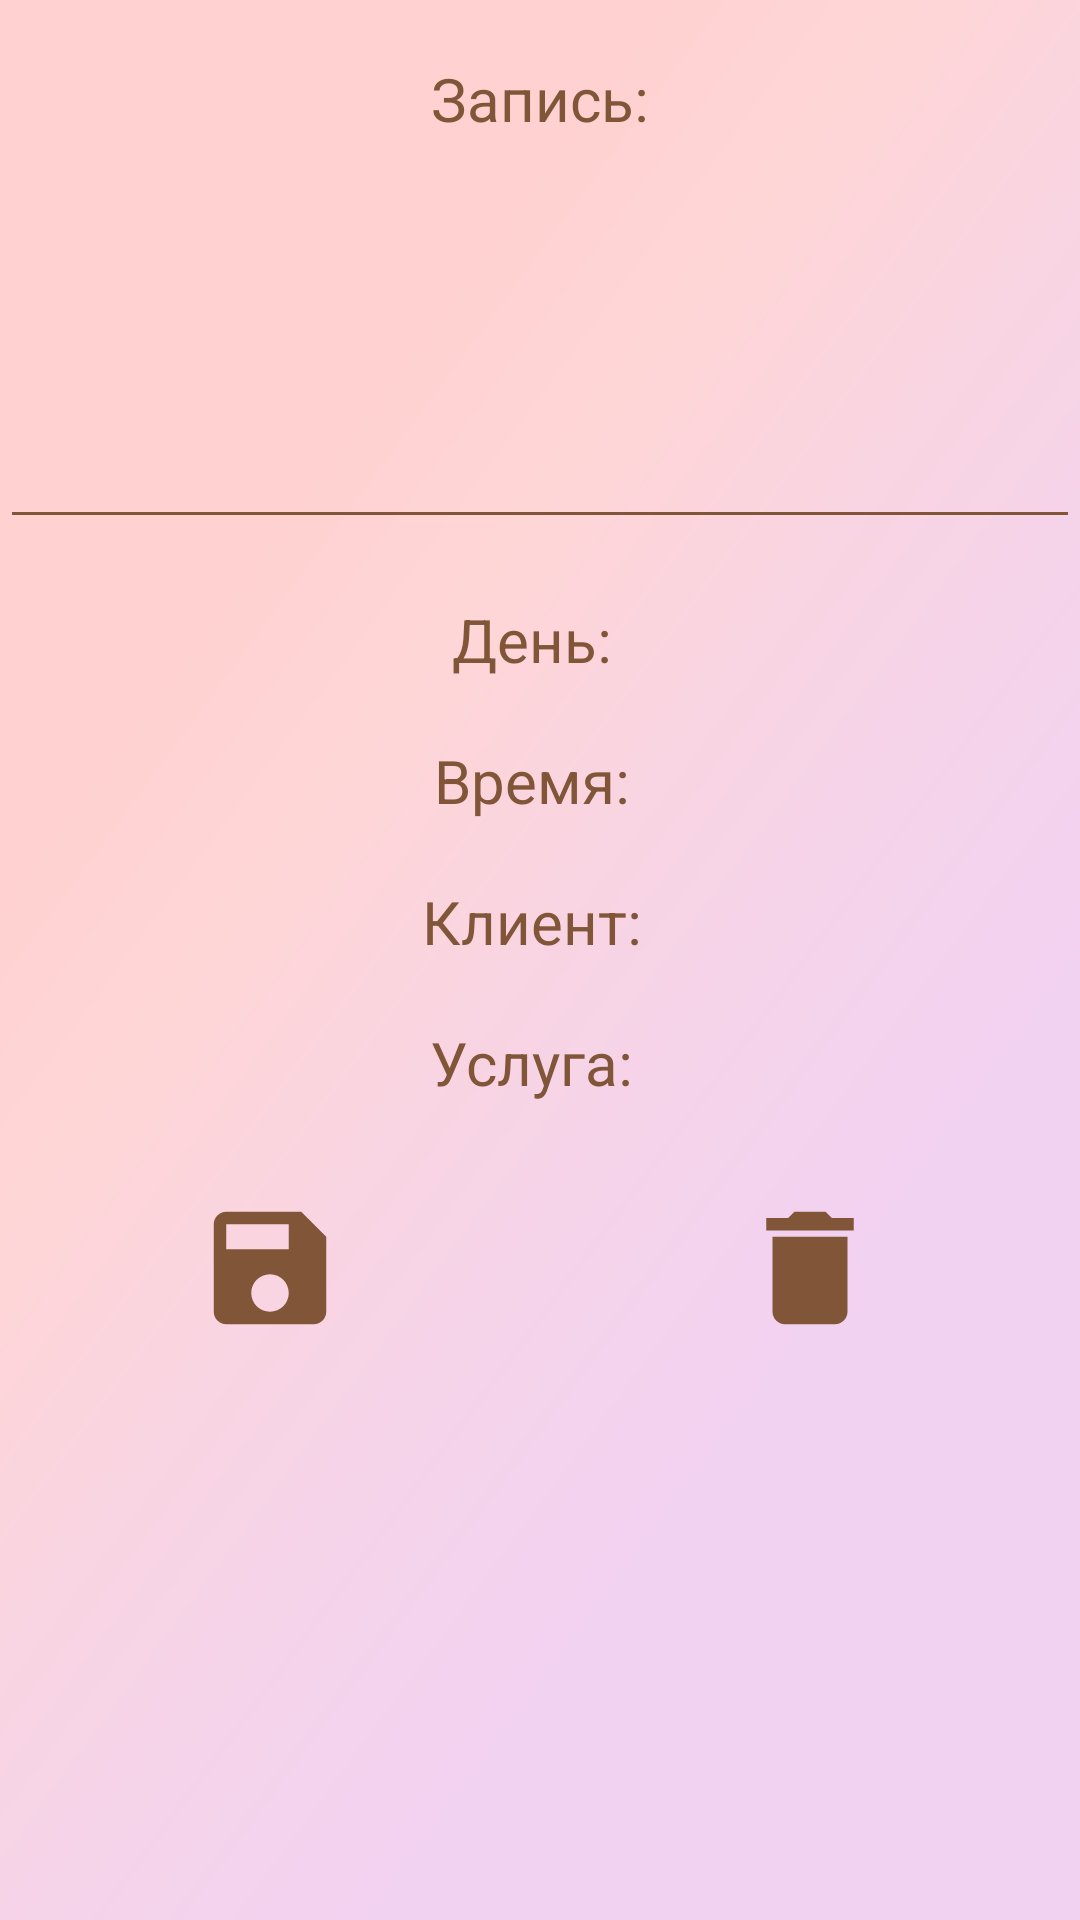

Icon click points for this 1080 x 1920 phone screenshot, format point (x, y):
Сохранить: point (270, 1268)
Удалить: point (810, 1268)
